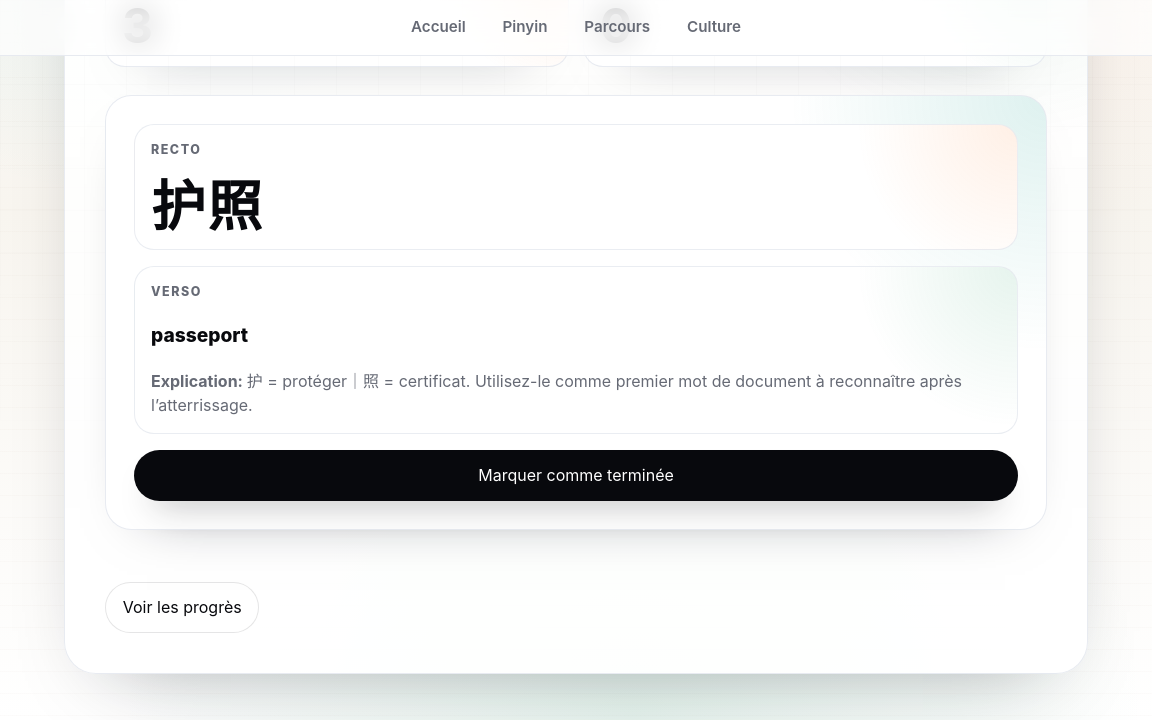
Test: ReviewPage › shows review cards from learned lessons and removes one after completion
This screenshot has width=1152, height=720.
(page scrolled)
expect the element named "carte de révision en cours" is shown: met, box [105,95,1047,530]
expect the element named "recto de la carte" shows "护照": met, box [151,173,264,239]
Click the button "Marquer comme terminée": click(576, 475) [134,450,1018,501]
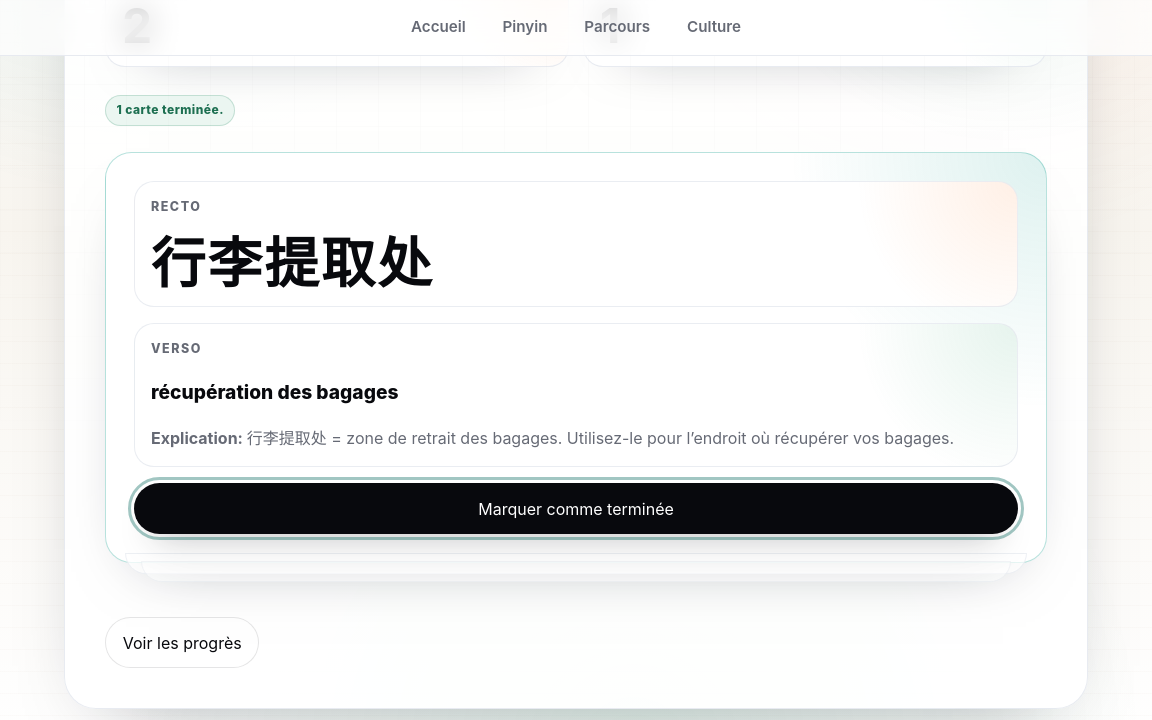
expect the text "护照" is gone: met
expect the element named "recto de la carte" shows "行李提取处": met, box [151,230,434,296]
